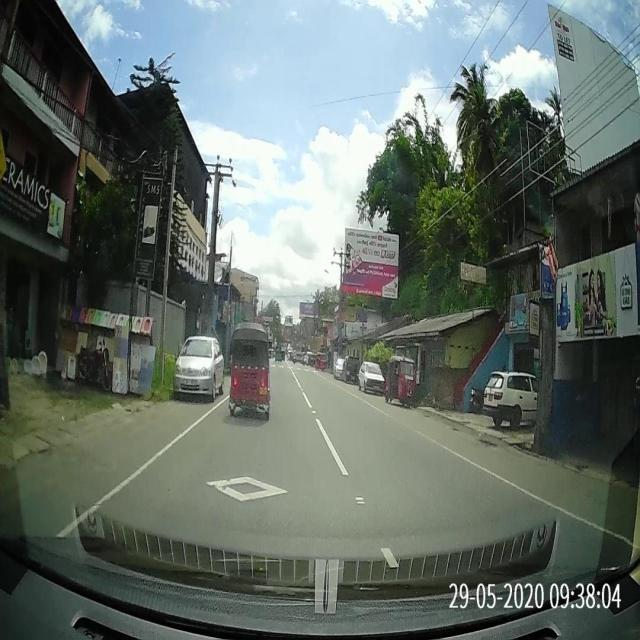Liniya 1: (58, 394, 229, 539), (314, 417, 350, 476), (301, 390, 313, 408)
Romb: (206, 475, 286, 501)
